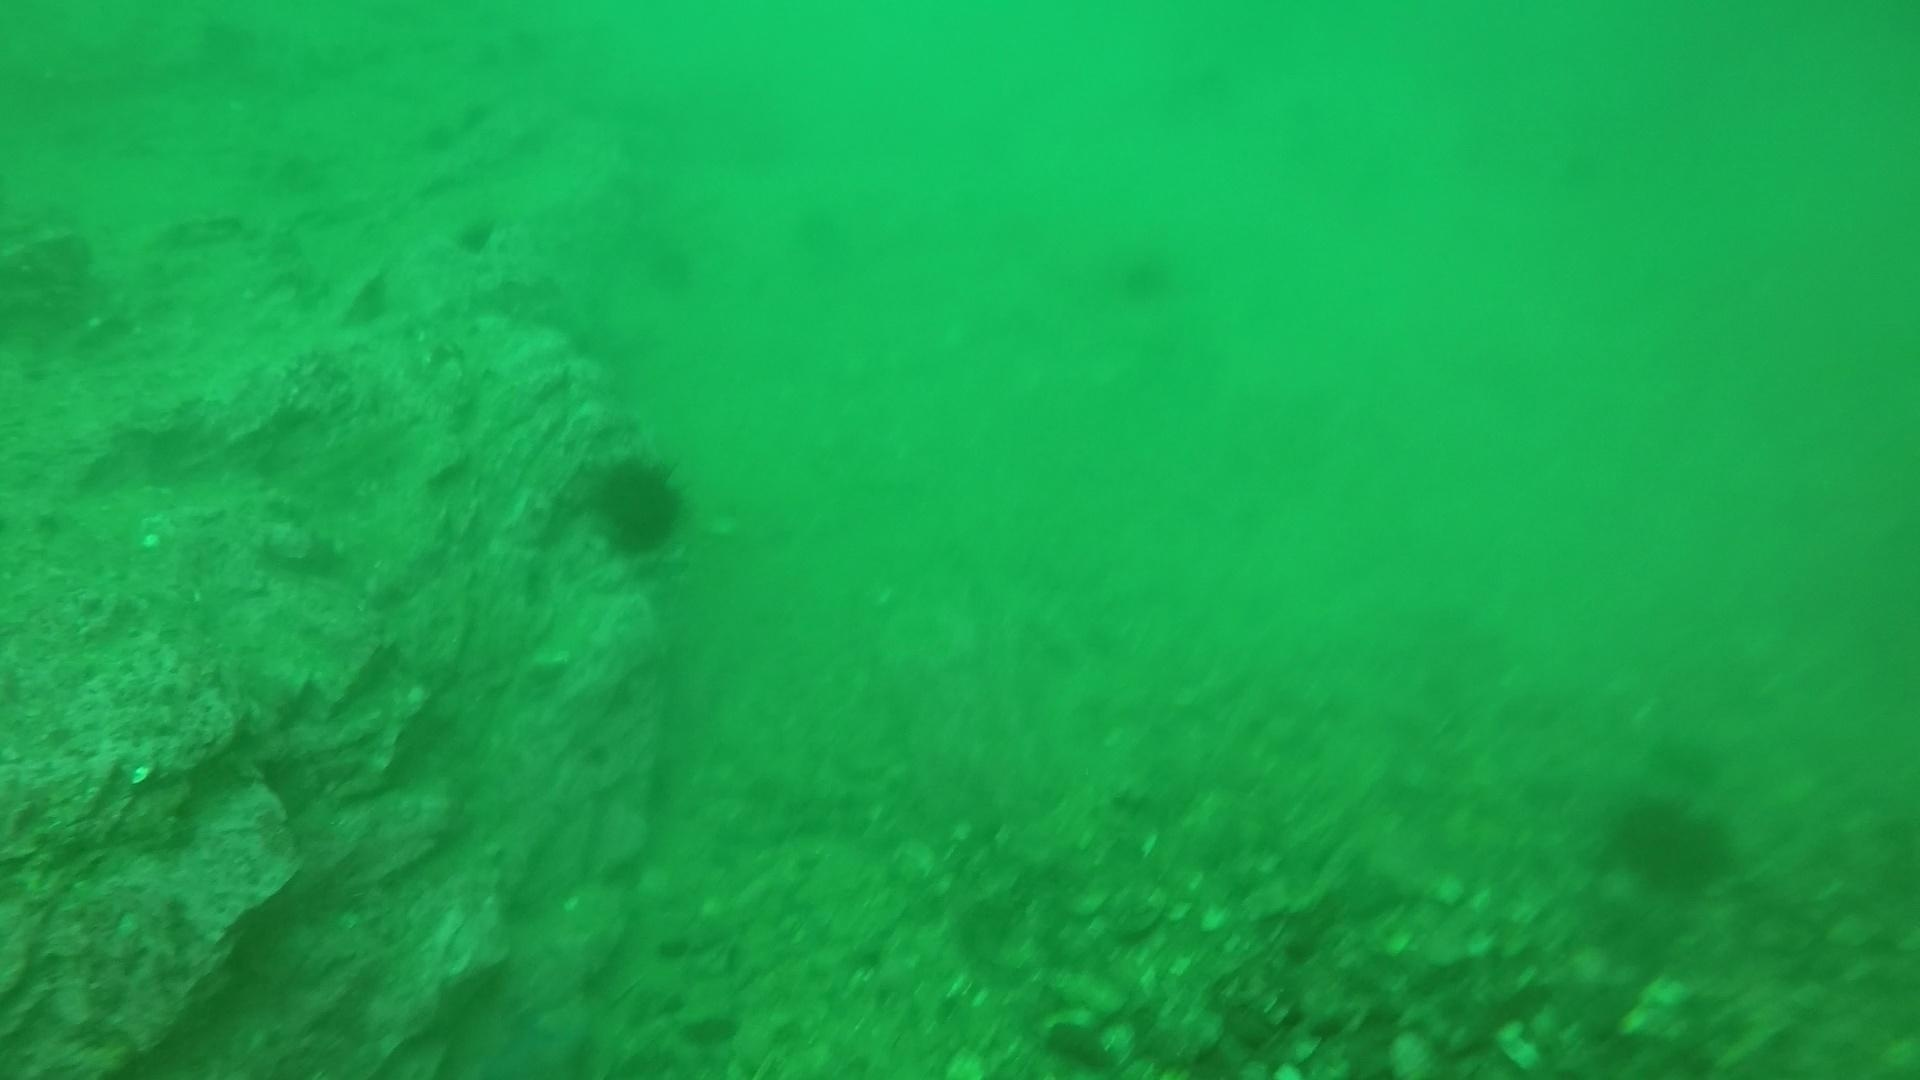echinus: (1602, 787, 1739, 898), (582, 446, 694, 560), (1106, 235, 1185, 307)
